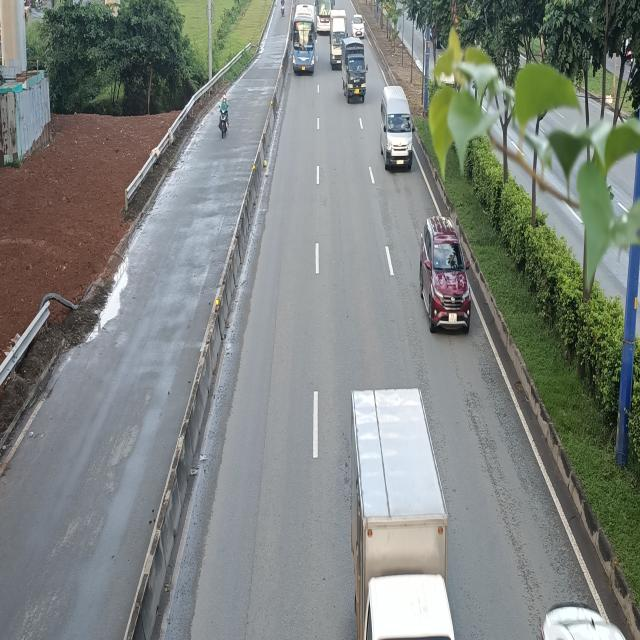car: (418, 218, 469, 336)
coach: (291, 2, 319, 75)
truck: (354, 388, 468, 640), (342, 38, 367, 102)
van: (378, 85, 413, 170)
